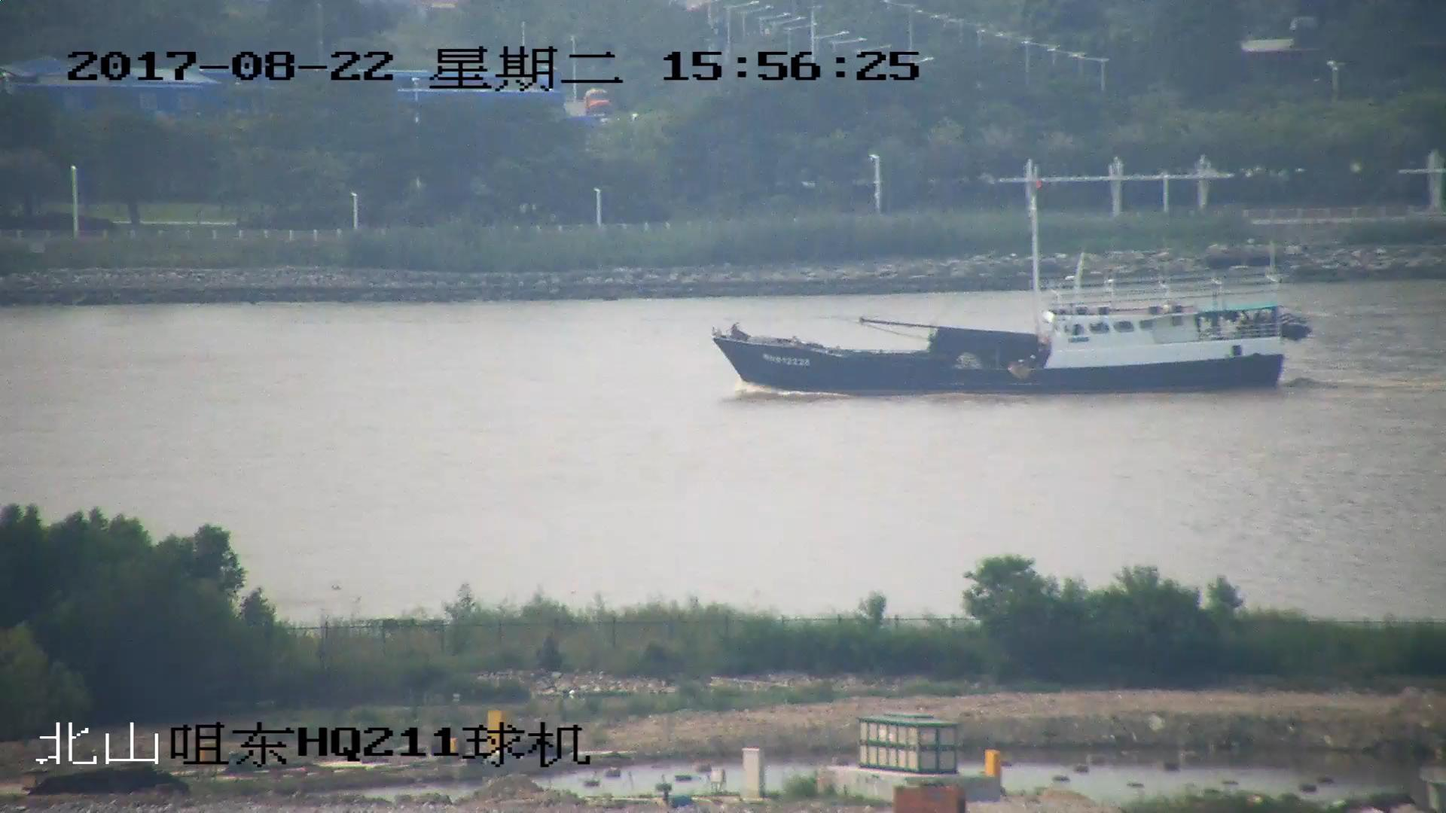fishing boat: (712, 182, 1310, 390)
